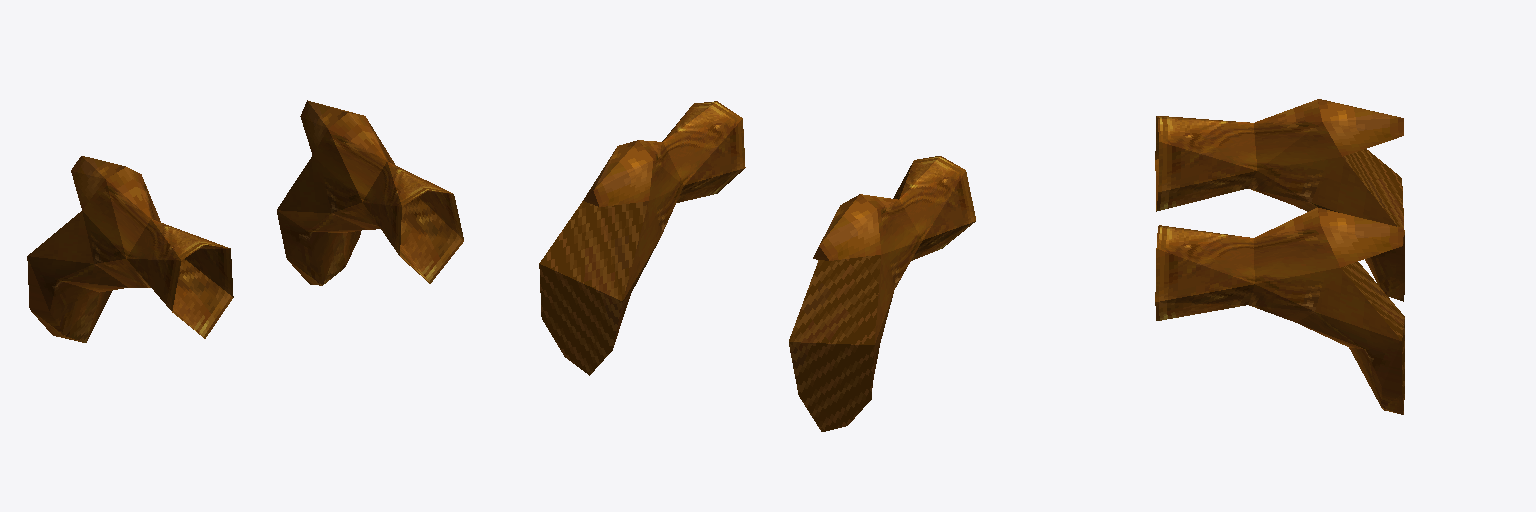
The picture shows the model from 3 angles: view 1: azimuth 30°, elevation 25°; view 2: azimuth 150°, elevation 25°; view 3: azimuth 270°, elevation 25°; orthographic projection.
Parts seen in each view (by area): view 1: priest_shoe_female_49500; view 2: priest_shoe_female_49500; view 3: priest_shoe_female_49500.
Boxes of the visible parts, x1=… form: priest_shoe_female_49500: x1=27, y1=100, x2=463, y2=342; priest_shoe_female_49500: x1=539, y1=101, x2=975, y2=431; priest_shoe_female_49500: x1=1155, y1=99, x2=1404, y2=414.
Size of the model in its own units: 21.84 by 12.77 by 14.07.
1 materials, 1 textured.